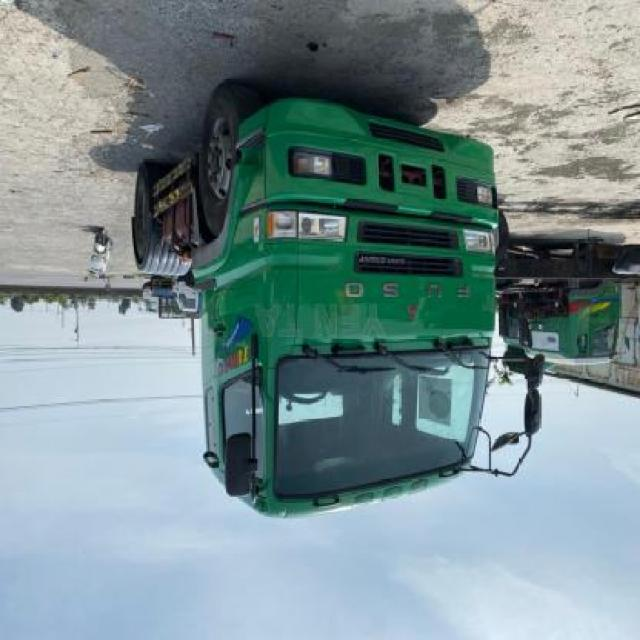truck: (134, 98, 545, 521), (490, 226, 627, 378)
